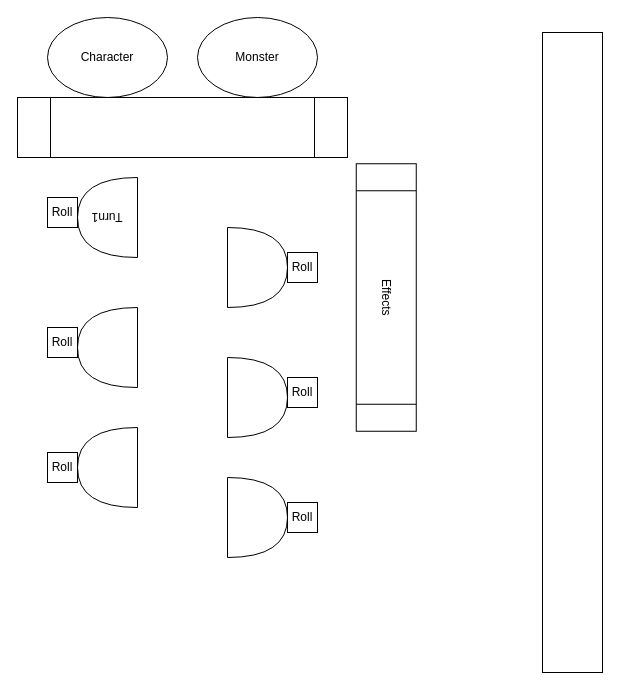
The diagram is 620 pixels wide and 690 high, and some of its shapes have lost their labels. The shapes that lost their labels are listed below. From the top down, each one's box as (x1, y1, x2, y2) in pixels, then its label:
(16, 96, 348, 158): Attacks
(226, 226, 288, 308): Turn2
(542, 32, 602, 672): Battle
